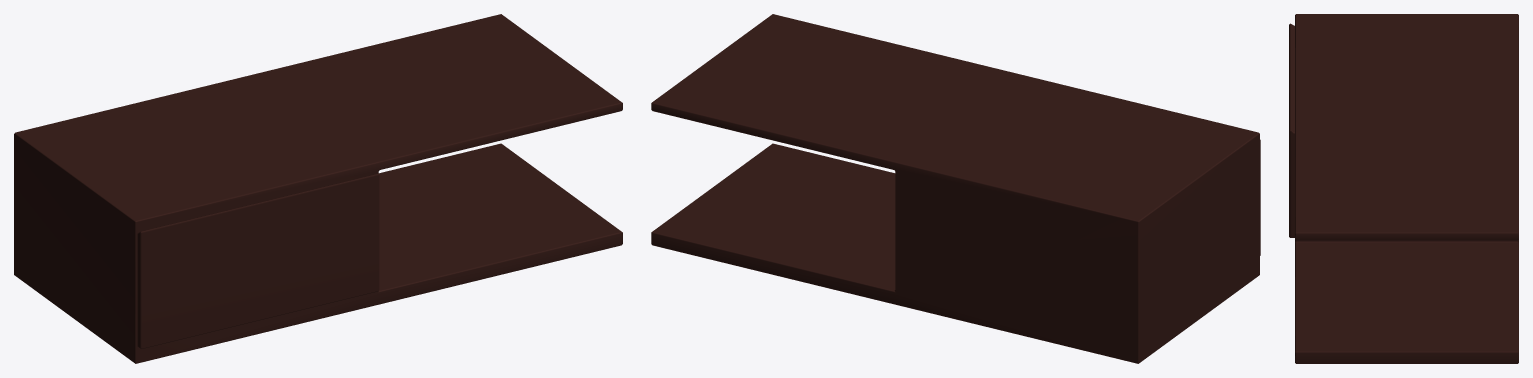
Rendered from NightTable.fbx.
3 renders of one model, left to right at view 1: azimuth 30°, elevation 25°; view 2: azimuth 150°, elevation 25°; view 3: azimuth 270°, elevation 25°, orthographic. The views are drawn at different scales.
Parts seen in each view (by area): view 1: NightTable; view 2: NightTable; view 3: NightTable.
Boxes of the visible parts, x1=… form: NightTable: x1=14, y1=14, x2=622, y2=363; NightTable: x1=651, y1=14, x2=1260, y2=363; NightTable: x1=1289, y1=14, x2=1518, y2=363.
Bounding box in the file's own units: 137 × 38.47 × 60.83.
